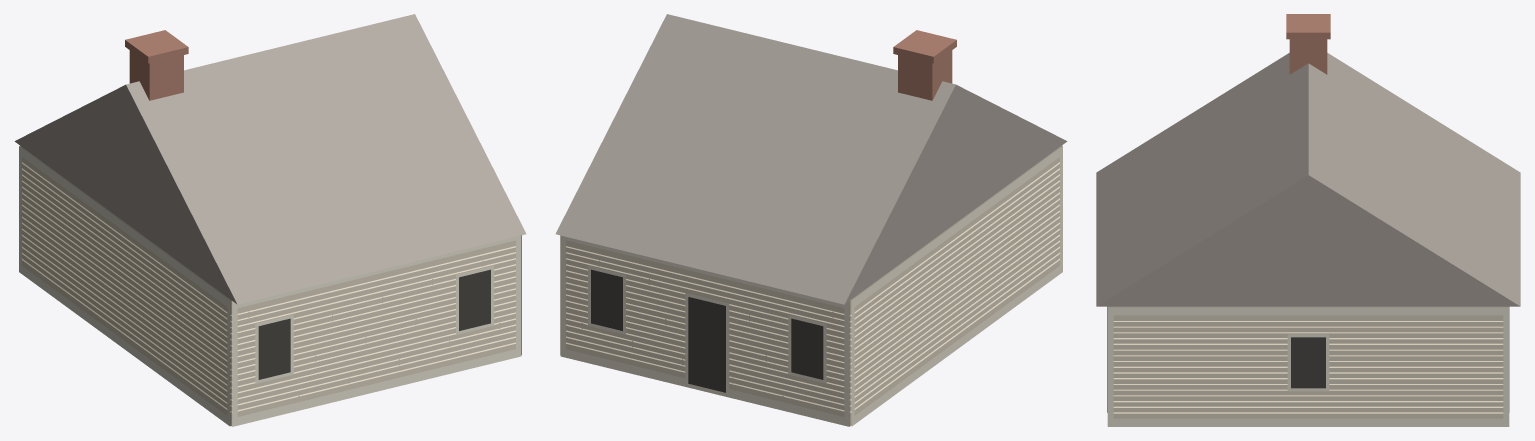
The model's file is recon_1835_north_d5_019__inferred_1835.glb.
3 renders of one model, left to right at view 1: azimuth 30°, elevation 25°; view 2: azimuth 150°, elevation 25°; view 3: azimuth 270°, elevation 25°, orthographic. The views are drawn at different scales.
Parts seen in each view (by area): view 1: recon_1835_north_d5_019__inferred_1835; view 2: recon_1835_north_d5_019__inferred_1835; view 3: recon_1835_north_d5_019__inferred_1835.
Boxes of the visible parts, box(x1,y1,x2,y2) form: recon_1835_north_d5_019__inferred_1835: box(14, 14, 526, 426); recon_1835_north_d5_019__inferred_1835: box(555, 14, 1067, 426); recon_1835_north_d5_019__inferred_1835: box(1096, 14, 1520, 426).
Bounding box in the file's own units: 7.11 × 6.93 × 9.4.
